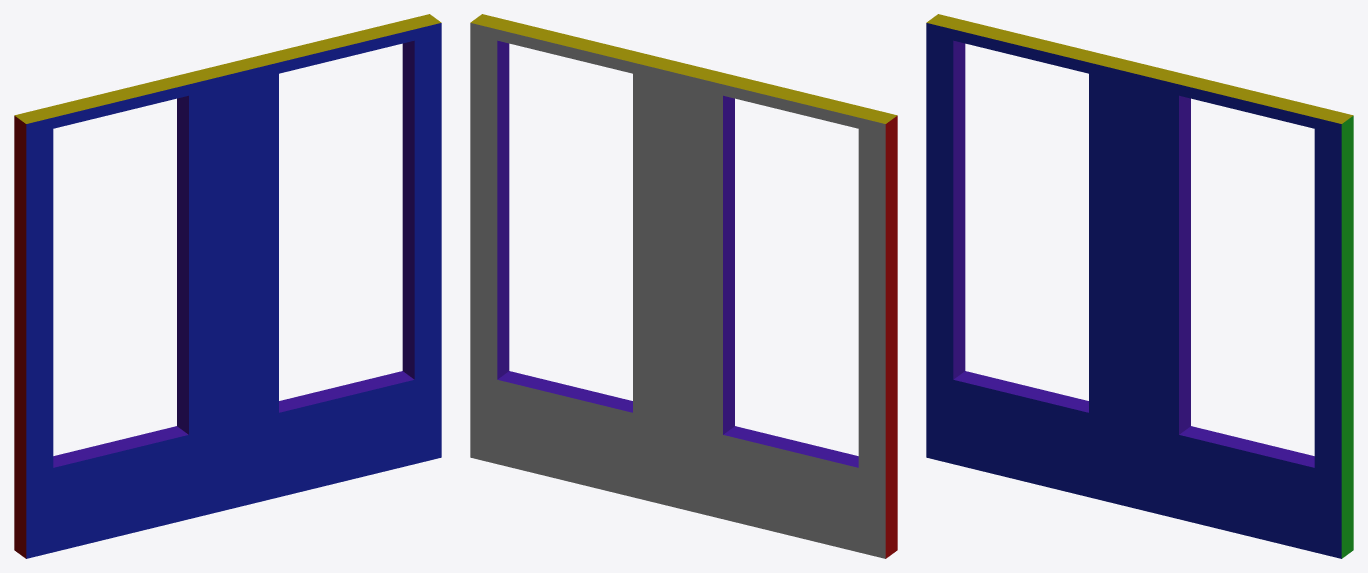
File: Wall_Window_07a.fbx
The picture shows the model from 3 angles, left to right: view 1: azimuth 30°, elevation 25°; view 2: azimuth 150°, elevation 25°; view 3: azimuth 330°, elevation 25°; orthographic projection.
Visible parts, largest first — view 1: Wall_Window_07a; view 2: Wall_Window_07a; view 3: Wall_Window_07a.
Part boxes in pixels (box(x1,y1,x2,y2)): Wall_Window_07a: box(14, 14, 441, 558); Wall_Window_07a: box(470, 14, 897, 558); Wall_Window_07a: box(926, 14, 1353, 558).
Size of the model in its own units: 3 by 0.15 by 3.
